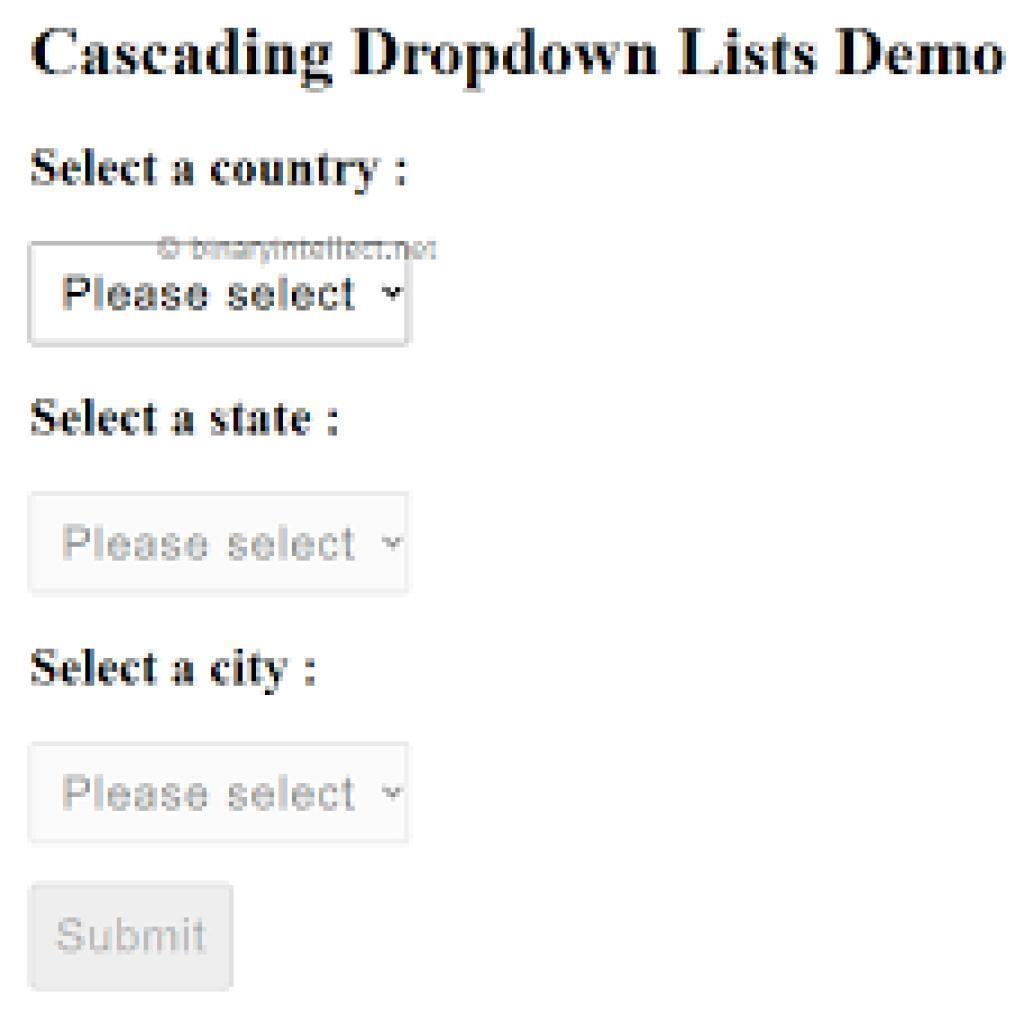button: (30, 884, 235, 994)
dropdown: (28, 742, 414, 846), (28, 492, 413, 594), (30, 247, 408, 348)
